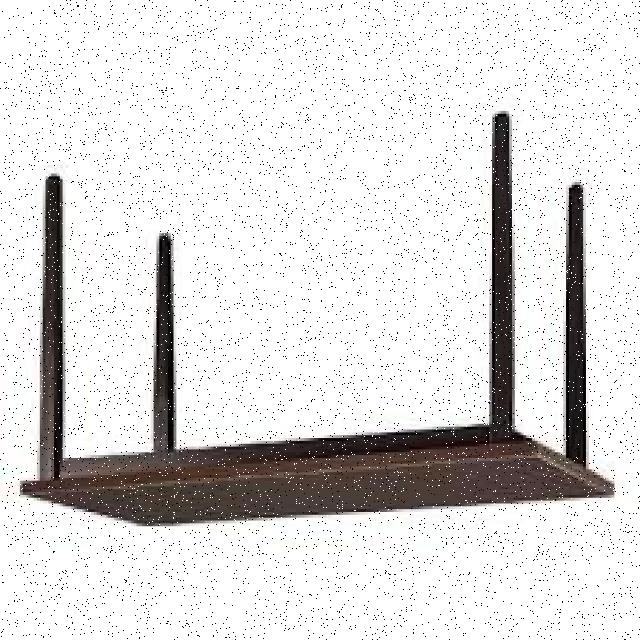mobile-phone: (19, 115, 610, 533)
